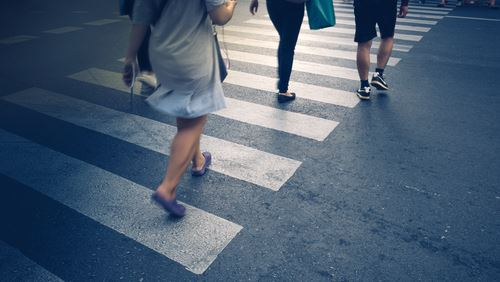Crosswalk: (2, 90, 148, 282)
